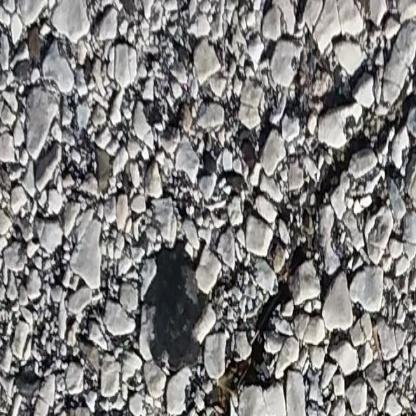Cracks: (204, 66, 416, 416)
